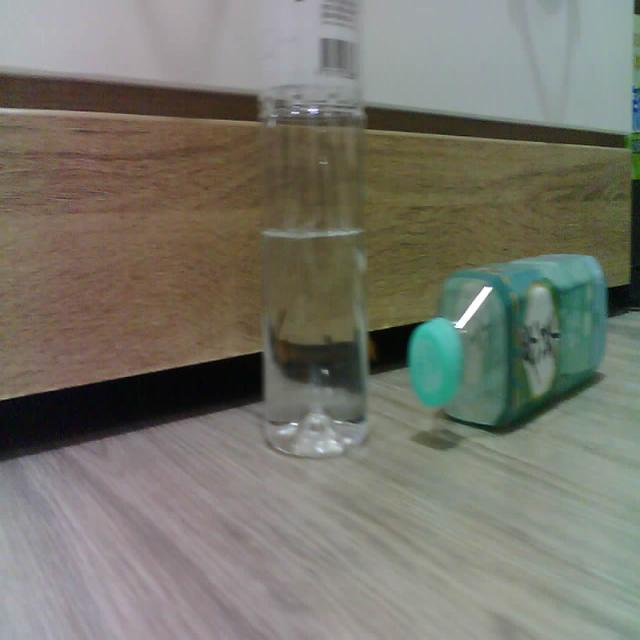bottle: (260, 0, 368, 456), (408, 254, 608, 428)
